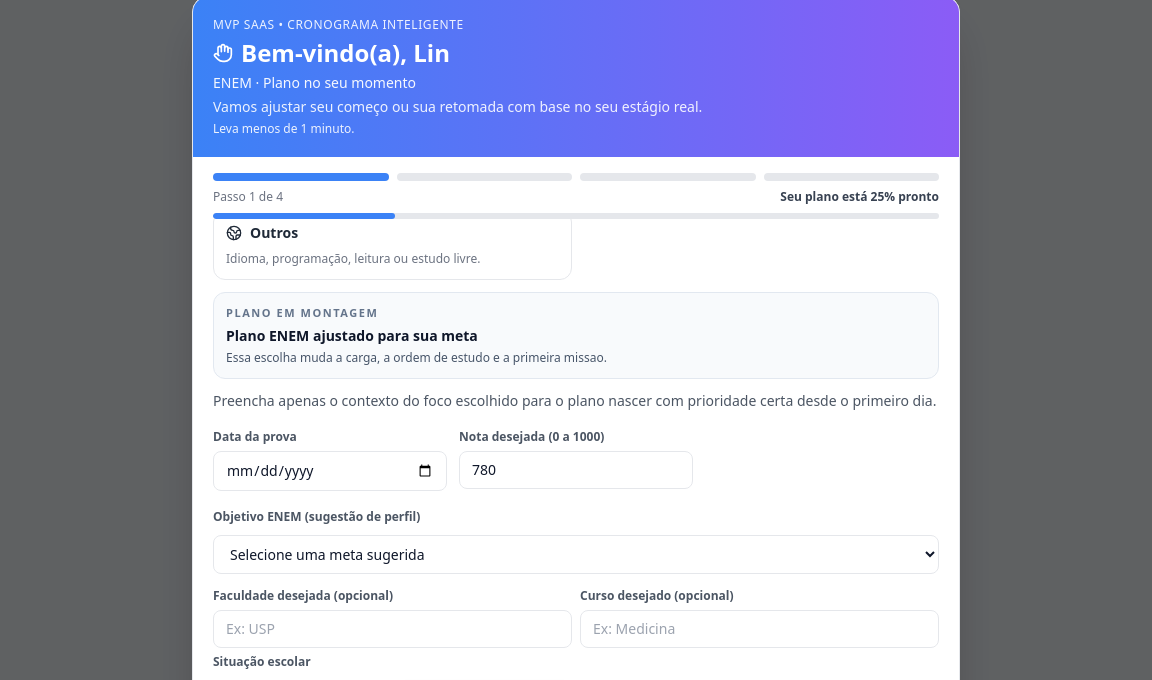
it: OnboardingFlow › aplica nivel inicial automaticamente quando o ENEM e a primeira vez do usuario
The width and height of the screenshot is (1152, 680).
(page scrolled)
Type "2026-11-09" into the date field at (330, 470), box [213, 450, 447, 490]
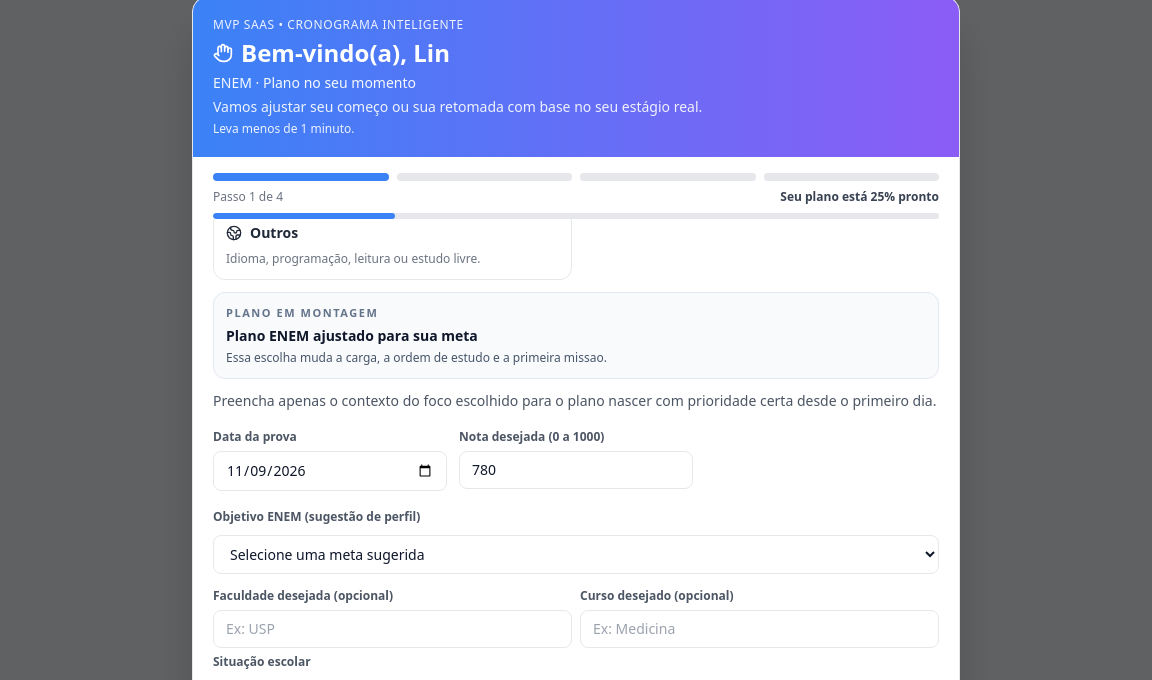
Replace the text in the number field with placeholder "Ex: 780" with "720" at (576, 470), box [459, 450, 693, 488]
(page scrolled)
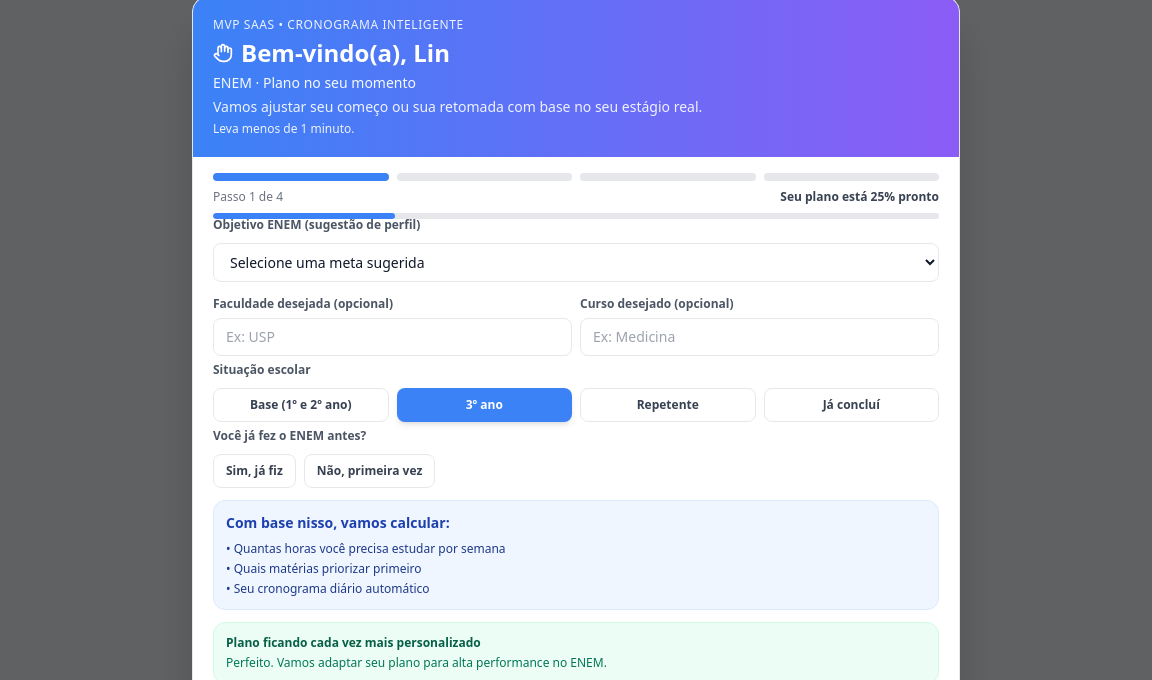
Click the button "Não, primeira vez" at (370, 470), box [304, 454, 435, 488]
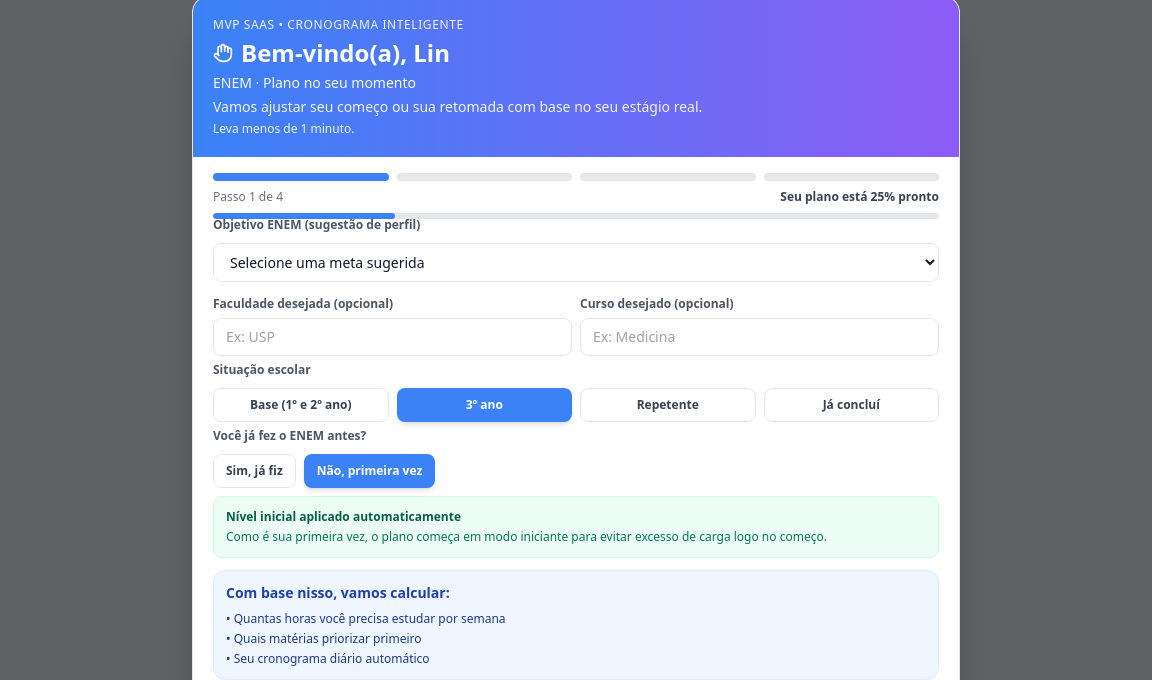
Expected: the text "Nível inicial aplicado automaticamente" is shown, [226, 508, 461, 524]
